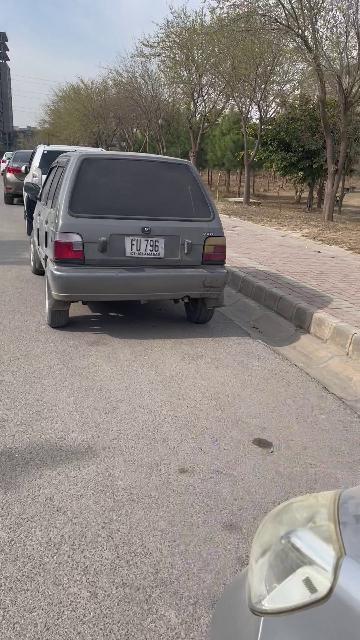plate: (125, 237, 165, 258)
